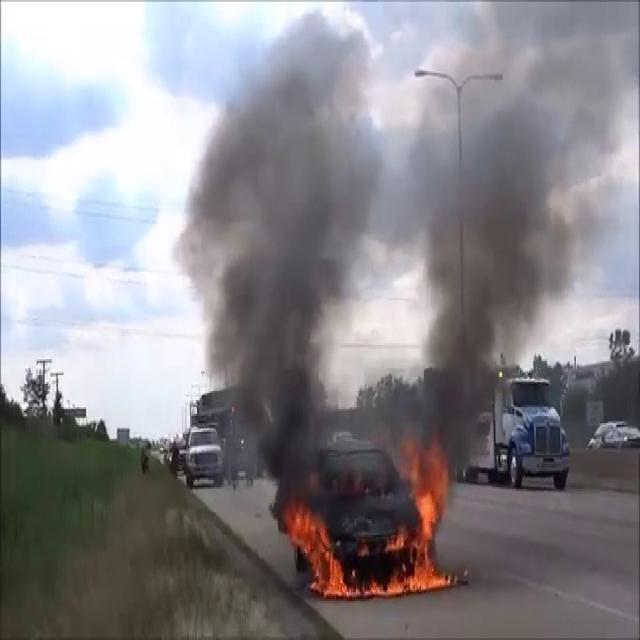Fire: (283, 442, 455, 602)
Smoke: (394, 4, 634, 448), (170, 19, 378, 482)
